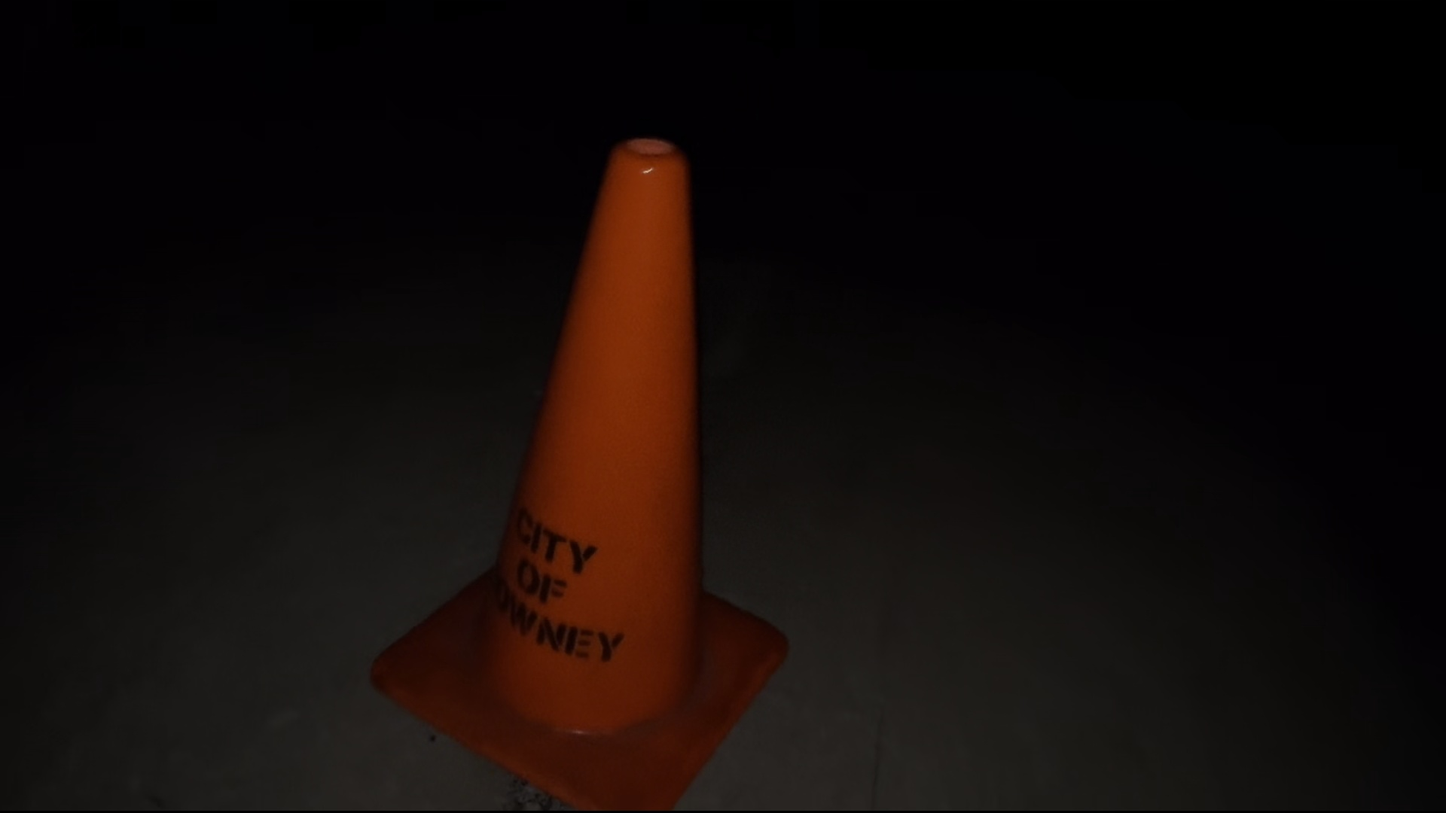traffic_cone: (368, 135, 790, 810)
